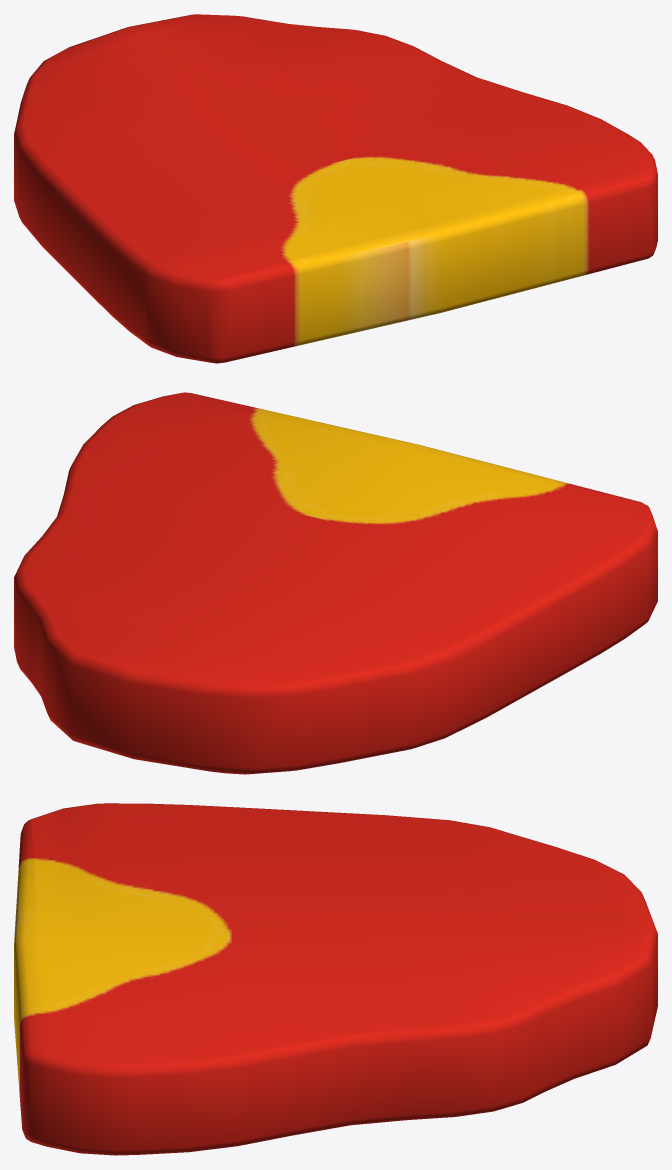
Rendered from flame4.fbx.
3 renders of one model, top to bottom at view 1: azimuth 30°, elevation 25°; view 2: azimuth 150°, elevation 25°; view 3: azimuth 270°, elevation 25°, orthographic. The views are drawn at different scales.
Parts seen in each view (by area): view 1: flame_4; view 2: flame_4; view 3: flame_4.
Part boxes in pixels (x1,y1,x2,y2): flame_4: [14, 14, 657, 363]; flame_4: [14, 392, 657, 774]; flame_4: [14, 803, 657, 1155].
Bounding box in the file's own units: 56.9 × 9.04 × 57.59.
